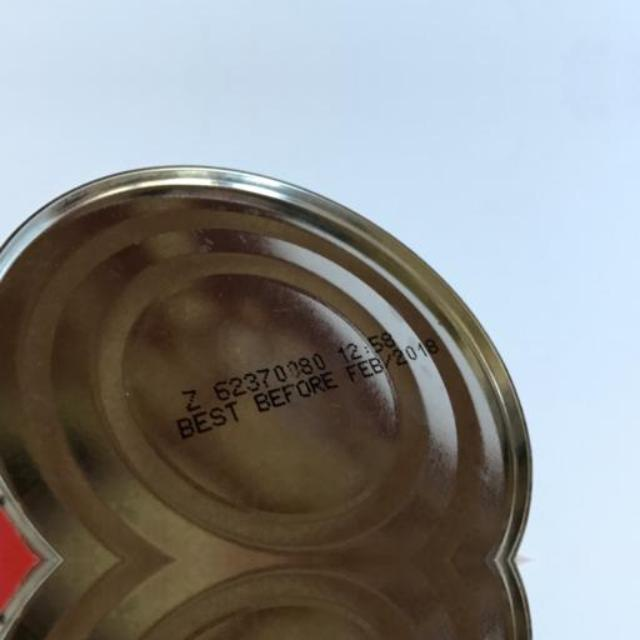Metal: (0, 145, 558, 560), (0, 560, 558, 640), (0, 0, 558, 15)
